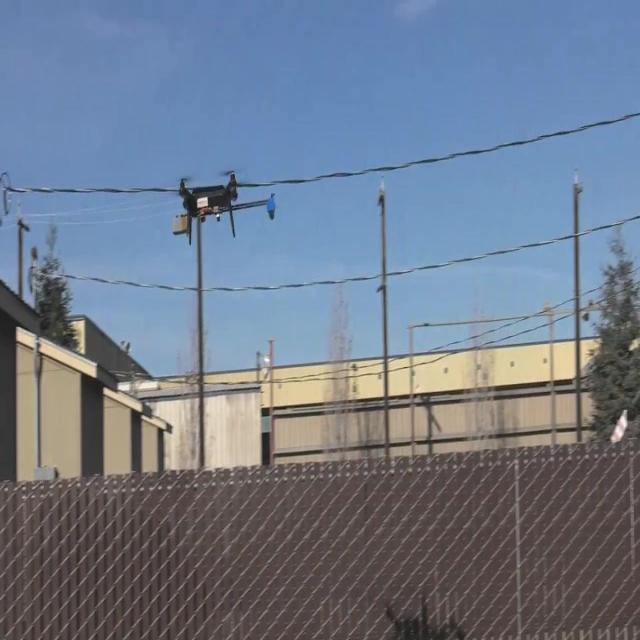drone: (177, 167, 242, 243)
